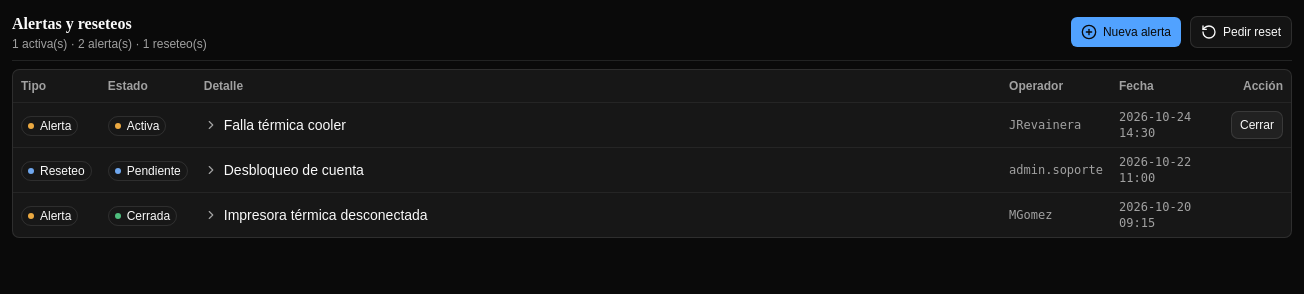
ActivityPanel › expands a row with its detail using the keyboard-accessible button
Click the button "Falla térmica cooler": (285, 124) [204,114,993,134]
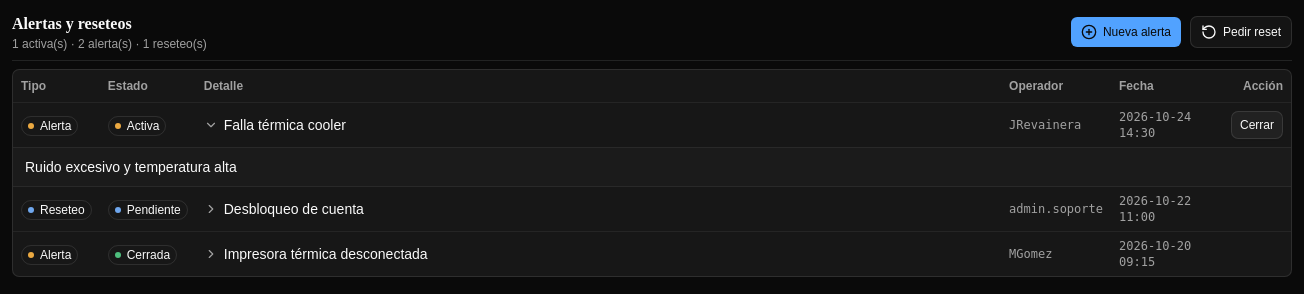
Result: the button "Falla térmica cooler" is expanded at [204,114,993,134]
Result: the text "Ruido excesivo y temperatura alta" is shown at [25,158,237,174]
